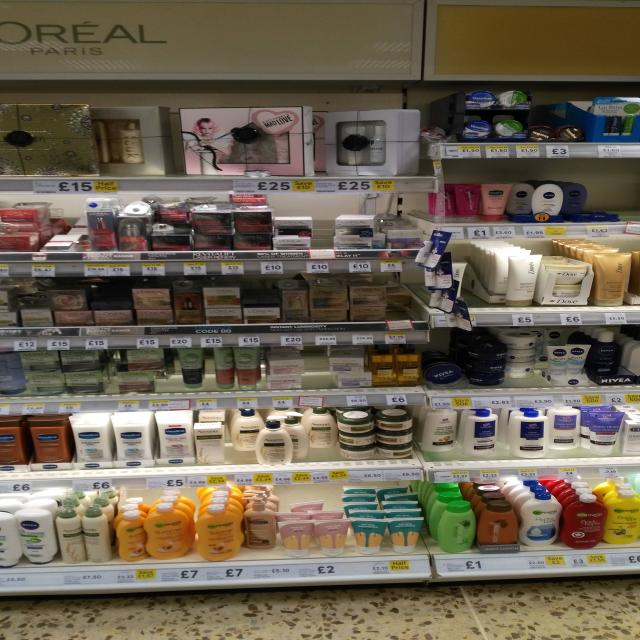unorganised: (112, 349, 167, 393), (464, 407, 501, 462), (421, 408, 459, 457), (243, 500, 275, 557), (547, 408, 583, 455), (116, 509, 145, 561), (305, 409, 338, 454), (441, 181, 479, 220), (231, 414, 260, 455), (213, 345, 236, 392), (336, 216, 378, 241), (506, 184, 533, 215), (275, 216, 314, 235), (286, 420, 305, 457), (565, 184, 587, 214), (389, 291, 412, 312)
